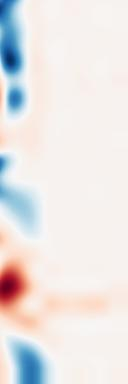filament: (0, 263, 38, 319)
